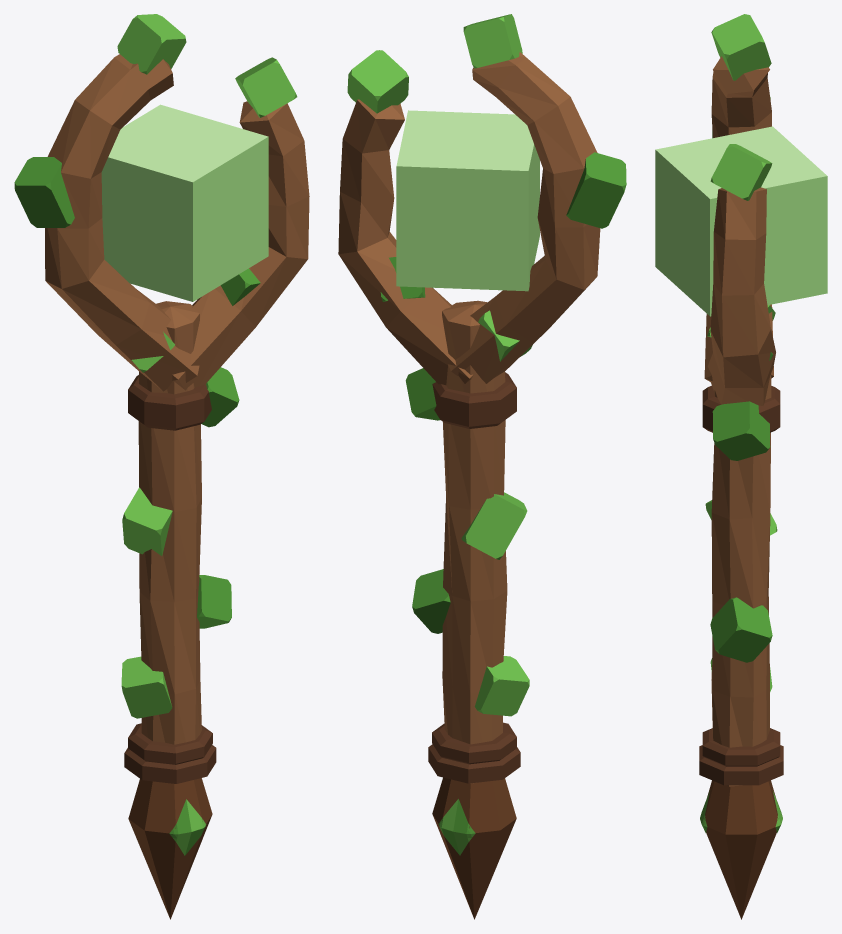
File: branch_staff.glb
3 views of the same model, side by side, from view 1: azimuth 30°, elevation 25°; view 2: azimuth 150°, elevation 25°; view 3: azimuth 270°, elevation 25° (orthographic). The views are drawn at different scales.
Visible parts, largest first — view 1: stone_cube, arm_left, shaft, arm_right, spike, collar_lower, leaf_arm_left_elbow, collar_upper, leaf_arm_left_tip, leaf_shaft_left_2, leaf_shaft_left_1, leaf_arm_right_tip (+4 smaller); view 2: stone_cube, shaft, arm_left, arm_right, spike, collar_lower, leaf_arm_left_elbow, collar_upper, leaf_arm_right_tip, leaf_shaft_left_1, leaf_shaft_left_2, leaf_arm_left_tip (+4 smaller); view 3: stone_cube, shaft, arm_right, spike, arm_left, collar_lower, leaf_shaft_right, leaf_collar_upper, leaf_arm_left_tip, leaf_arm_right_tip, collar_upper.
Part boxes in pixels (<box>): stone_cube: <box>101,104,268,301</box>; arm_left: <box>45,54,199,391</box>; shaft: <box>138,301,201,744</box>; arm_right: <box>172,101,309,390</box>; spike: <box>128,778,212,919</box>; collar_lower: <box>124,723,216,783</box>; leaf_arm_left_elbow: <box>14,157,74,227</box>; collar_upper: <box>128,375,211,430</box>; leaf_arm_left_tip: <box>117,14,186,74</box>; leaf_shaft_left_2: <box>121,656,172,718</box>; leaf_shaft_left_1: <box>122,487,172,555</box>; leaf_arm_right_tip: <box>235,57,297,117</box>; stone_cube: <box>396,110,539,291</box>; shaft: <box>442,300,507,783</box>; arm_left: <box>448,52,600,383</box>; arm_right: <box>338,99,473,385</box>; spike: <box>432,777,516,919</box>; collar_lower: <box>428,722,520,783</box>; leaf_arm_left_elbow: <box>566,152,626,228</box>; collar_upper: <box>432,372,516,428</box>; leaf_arm_right_tip: <box>347,50,408,113</box>; leaf_shaft_left_1: <box>461,492,527,559</box>; leaf_shaft_left_2: <box>474,656,529,716</box>; leaf_arm_left_tip: <box>463,14,522,68</box>; stone_cube: <box>655,126,827,316</box>; shaft: <box>711,321,771,786</box>; arm_right: <box>707,187,775,405</box>; spike: <box>704,780,778,919</box>; arm_left: <box>704,56,773,382</box>; collar_lower: <box>699,728,783,785</box>; leaf_shaft_right: <box>710,597,772,662</box>; leaf_collar_upper: <box>712,401,770,460</box>; leaf_arm_left_tip: <box>711,14,771,80</box>; leaf_arm_right_tip: <box>710,144,772,200</box>; collar_upper: <box>702,385,780,432</box>.
Size of the model in its own units: 0.4556 by 1.4 by 0.2459.
